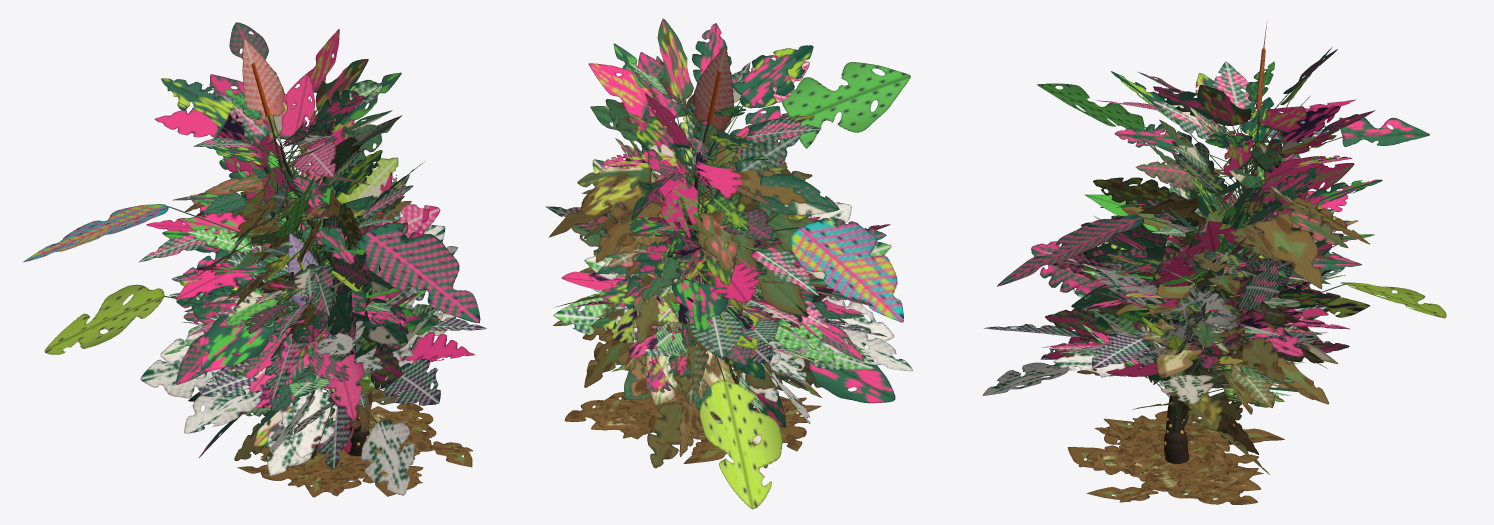
The model's file is 48plant-002.glb.
3 views of the same model, side by side, from view 1: azimuth 30°, elevation 25°; view 2: azimuth 150°, elevation 25°; view 3: azimuth 270°, elevation 25° (orthographic). The views are drawn at different scales.
Parts seen in each view (by area): view 1: leaves, fallen leaves, wood; view 2: leaves, fallen leaves, wood; view 3: leaves, fallen leaves, wood.
Part boxes in pixels (box(x1,y1,x2,y2)): leaves: box(23, 22, 486, 495); fallen leaves: box(237, 403, 472, 497); wood: box(164, 62, 400, 456); leaves: box(545, 18, 913, 509); fallen leaves: box(564, 369, 821, 463); wood: box(638, 70, 798, 412); leaves: box(982, 20, 1446, 474); fallen leaves: box(1068, 409, 1284, 504); wood: box(1074, 48, 1349, 463).
Size of the model in its own units: 1.33 by 1.37 by 1.47.
Materials: 2 (1 with a texture image).
